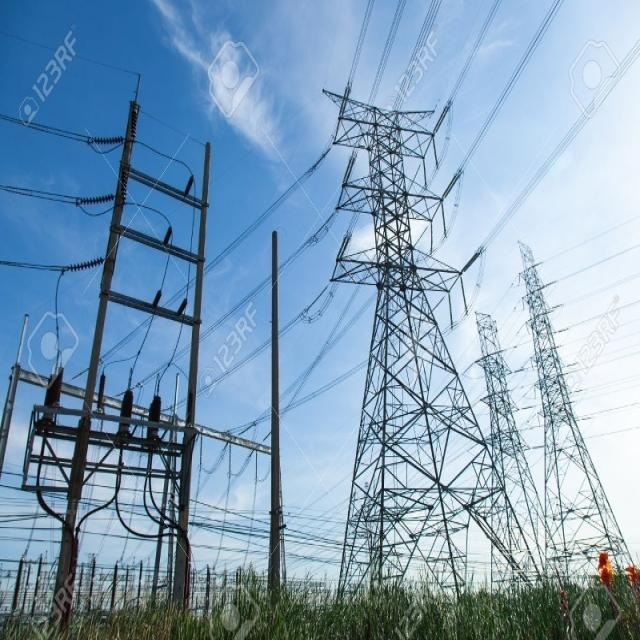non-critical vegetation: (336, 85, 510, 608), (504, 237, 636, 608), (470, 308, 546, 587)
